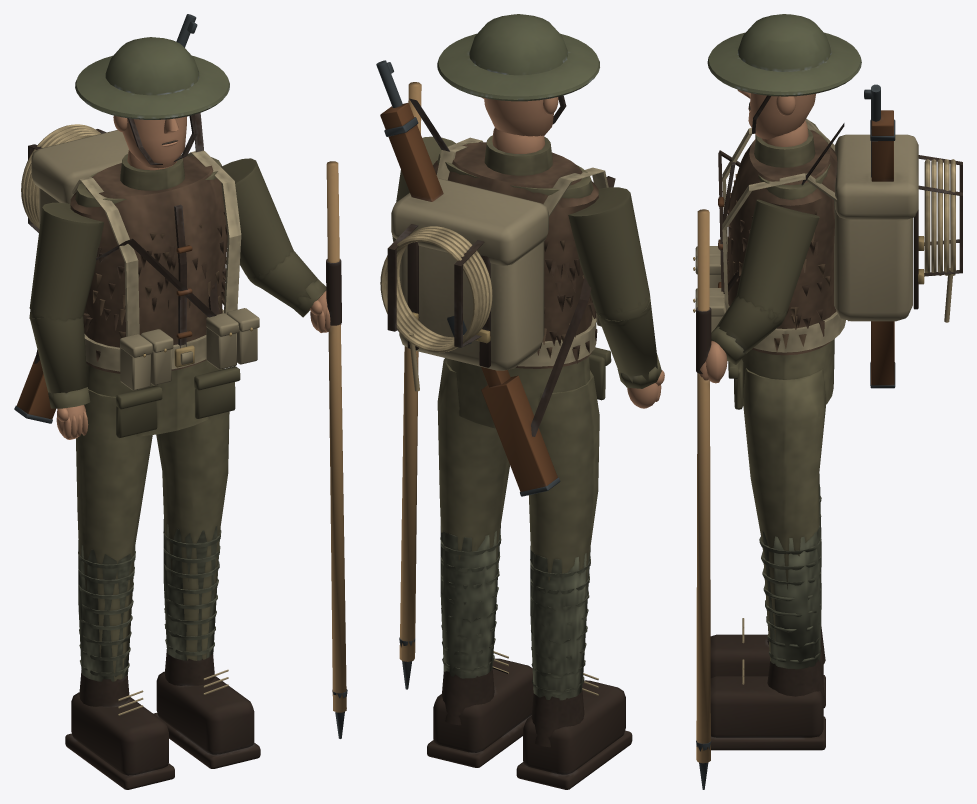
The picture shows the model from 3 angles, left to right: view 1: azimuth 30°, elevation 25°; view 2: azimuth 150°, elevation 25°; view 3: azimuth 270°, elevation 25°; orthographic projection. The views are drawn at different scales.
Visible parts, largest first — view 1: Jerkin, Leg_R, Leg_L, Sleeve_R, Helmet, Tunic, Pack, Boot_R, Boot_L, Alpenstock, Webbing, Sleeve_L (+6 smaller); view 2: Pack, Leg_R, Leg_L, Sleeve_R, Helmet, Rifle, Jerkin, Boot_R, Boot_L, Rope, Tunic, Alpenstock (+5 smaller); view 3: Leg_L, Pack, Jerkin, Helmet, Boot_L, Sleeve_L, Alpenstock, Tunic, Rope, Rifle, Webbing, Head (+3 smaller).
Part boxes in pixels (x1,y1,x2,y2): Jerkin: (70, 156, 227, 373); Leg_R: (76, 389, 152, 681); Leg_L: (156, 369, 229, 660); Sleeve_R: (29, 202, 103, 408); Helmet: (75, 37, 229, 164); Tunic: (75, 154, 240, 437); Pack: (31, 130, 241, 336); Boot_R: (65, 669, 174, 789); Boot_L: (153, 649, 260, 768); Alpenstock: (326, 161, 347, 738); Webbing: (84, 308, 259, 390); Sleeve_L: (222, 158, 326, 317); Pack: (391, 137, 608, 370); Leg_R: (529, 370, 599, 700); Leg_L: (437, 358, 509, 678); Sleeve_R: (568, 187, 661, 388); Helmet: (437, 14, 599, 124); Rifle: (376, 60, 560, 496); Jerkin: (433, 142, 598, 368); Boot_R: (516, 673, 632, 789); Boot_L: (427, 651, 533, 767); Rope: (380, 224, 492, 391); Tunic: (437, 135, 611, 428); Alpenstock: (399, 82, 421, 689); Leg_L: (743, 368, 825, 669); Pack: (722, 119, 924, 321); Jerkin: (718, 129, 848, 355); Helmet: (707, 14, 861, 133); Boot_L: (710, 659, 825, 750); Sleeve_L: (711, 199, 819, 364); Alpenstock: (696, 209, 711, 789); Tunic: (728, 129, 834, 409); Rope: (918, 155, 962, 322); Rifle: (864, 84, 895, 388); Webbing: (693, 246, 845, 352); Head: (737, 89, 815, 146).
Bounding box in the file's own units: 0.7389 × 1.81 × 0.633.
Materials: 1 (1 with a texture image).
